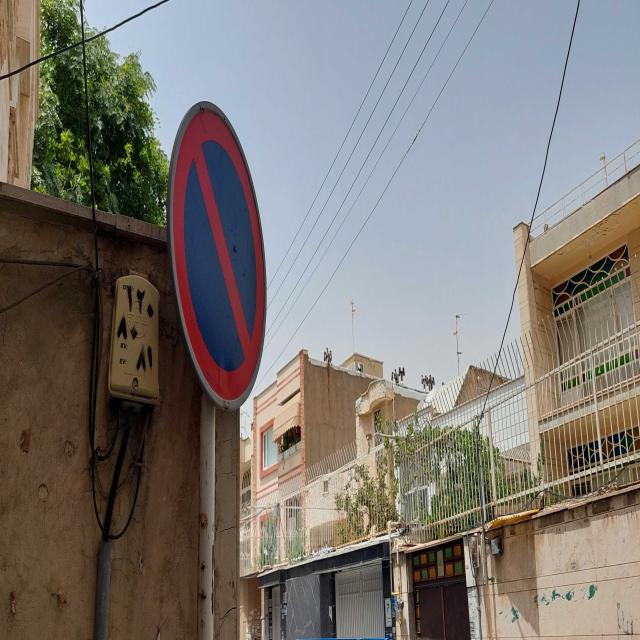forb_stopping: (168, 97, 267, 412)
